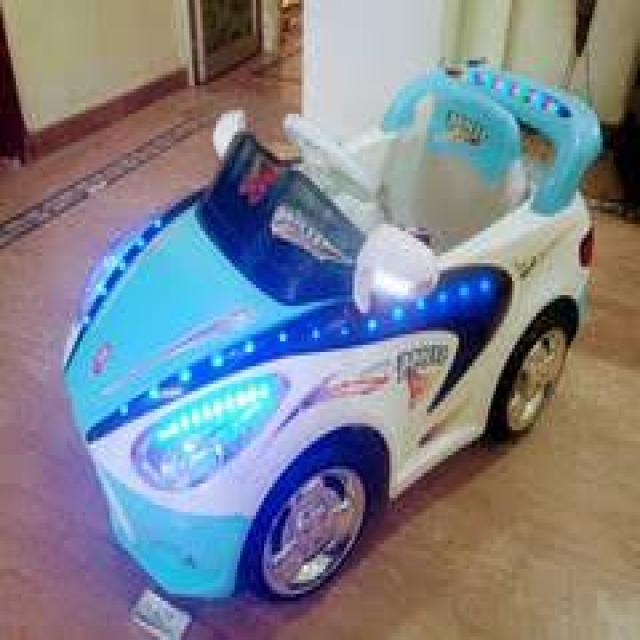Car: (59, 60, 600, 601)
